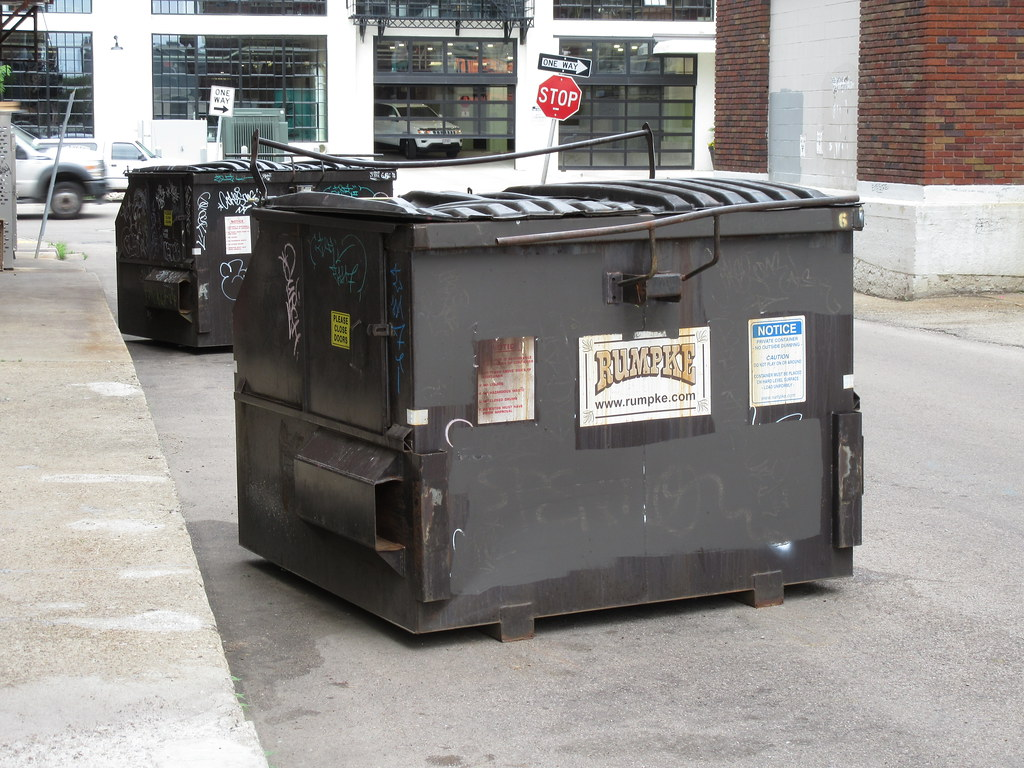Dumpster: (221, 171, 900, 657), (96, 142, 407, 353)
